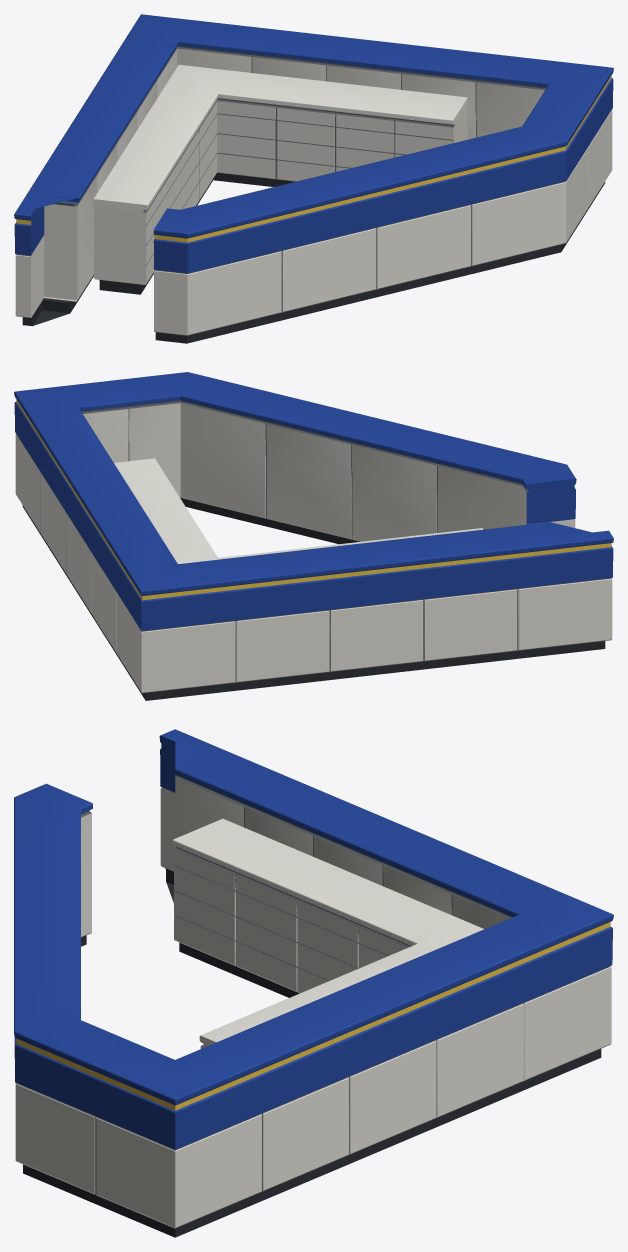
File: checkout-counter-shield-laminate-2010.glb
The picture shows the model from 3 angles, top to bottom: view 1: azimuth 30°, elevation 25°; view 2: azimuth 150°, elevation 25°; view 3: azimuth 270°, elevation 25°; orthographic projection. The views are drawn at different scales.
Visible parts, largest first — view 1: shield-surround-0.002, shield-work-cabinet.002; view 2: shield-surround-0.002, shield-work-cabinet.002; view 3: shield-surround-0.002, shield-work-cabinet.002.
Boxes of the visible parts, x1=… form: shield-surround-0.002: x1=14, y1=14, x2=613, y2=343; shield-work-cabinet.002: x1=93, y1=64, x2=467, y2=294; shield-surround-0.002: x1=14, y1=372, x2=613, y2=700; shield-work-cabinet.002: x1=114, y1=458, x2=483, y2=564; shield-surround-0.002: x1=14, y1=729, x2=613, y2=1237; shield-work-cabinet.002: x1=173, y1=818, x2=484, y2=1048.
Size of the model in its own units: 19.6 by 3.54 by 13.4.
